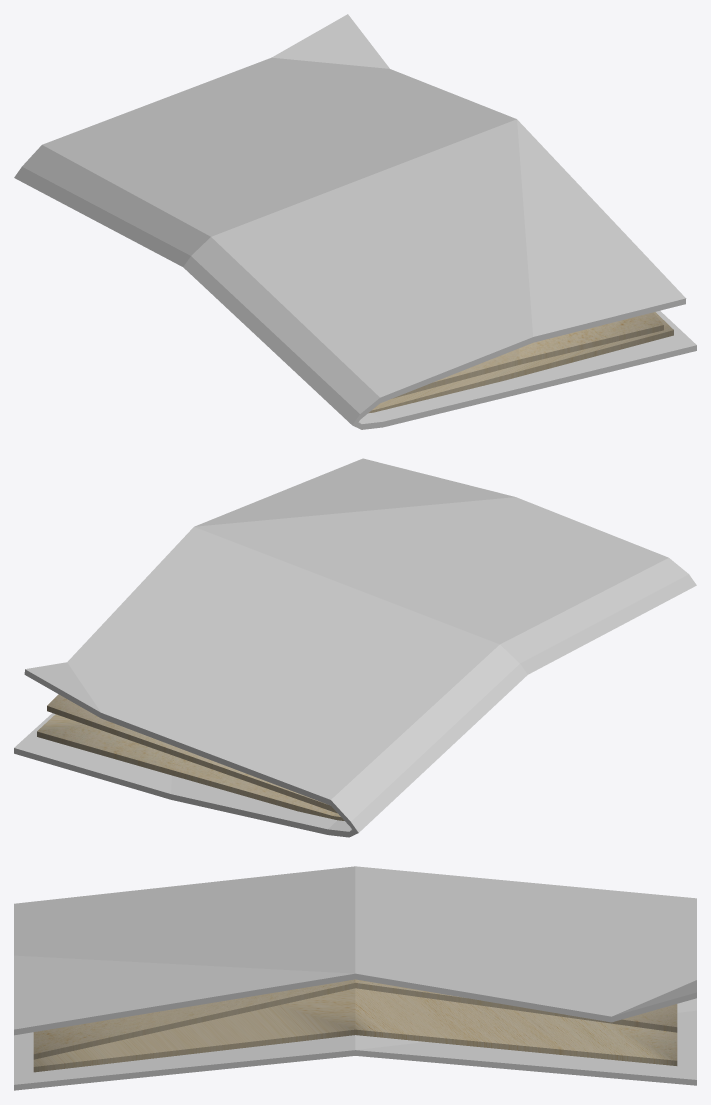
Rendered from jornal.fbx.
3 renders of one model, top to bottom at view 1: azimuth 30°, elevation 25°; view 2: azimuth 150°, elevation 25°; view 3: azimuth 270°, elevation 25°, orthographic.
Parts seen in each view (by area): view 1: Plane, Plane.001; view 2: Plane, Plane.001; view 3: Plane, Plane.001.
Part boxes in pixels (x1,y1,x2,y2): Plane: (14,14,696,429); Plane.001: (368,312,673,413); Plane: (14,458,696,837); Plane.001: (37,694,344,820); Plane: (14,866,696,1090); Plane.001: (33,979,677,1072).
Size of the model in its own units: 18.91 by 5.96 by 32.14.
